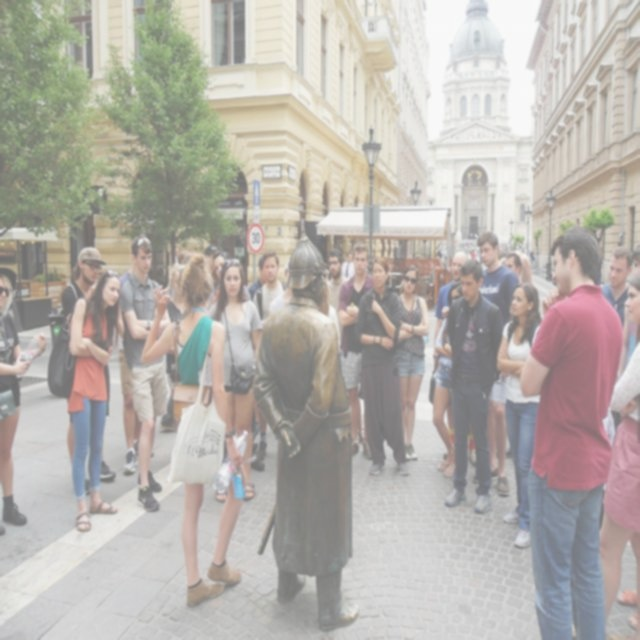pessoa: (516, 222, 626, 640), (138, 249, 245, 609), (288, 222, 361, 632), (571, 270, 639, 639), (45, 267, 123, 533), (442, 256, 508, 516), (116, 230, 173, 514), (242, 284, 288, 606), (206, 257, 264, 506), (60, 248, 117, 494), (352, 254, 412, 478), (0, 264, 49, 538), (471, 230, 521, 498), (496, 280, 544, 550), (432, 250, 479, 470), (250, 250, 290, 462), (336, 242, 374, 460), (396, 263, 432, 463), (428, 280, 464, 480), (600, 243, 640, 386), (117, 260, 143, 476), (596, 406, 624, 534), (161, 246, 195, 328), (326, 248, 352, 346), (497, 244, 555, 284), (203, 242, 230, 312), (456, 224, 482, 266), (615, 586, 639, 631), (248, 402, 260, 458), (494, 438, 516, 462), (251, 253, 267, 285), (436, 248, 446, 258)
